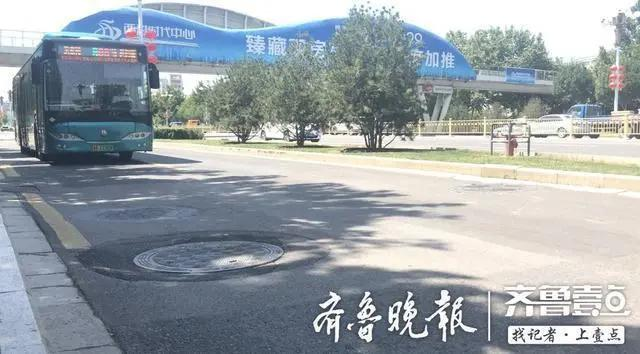wellcover: (122, 226, 293, 283)
